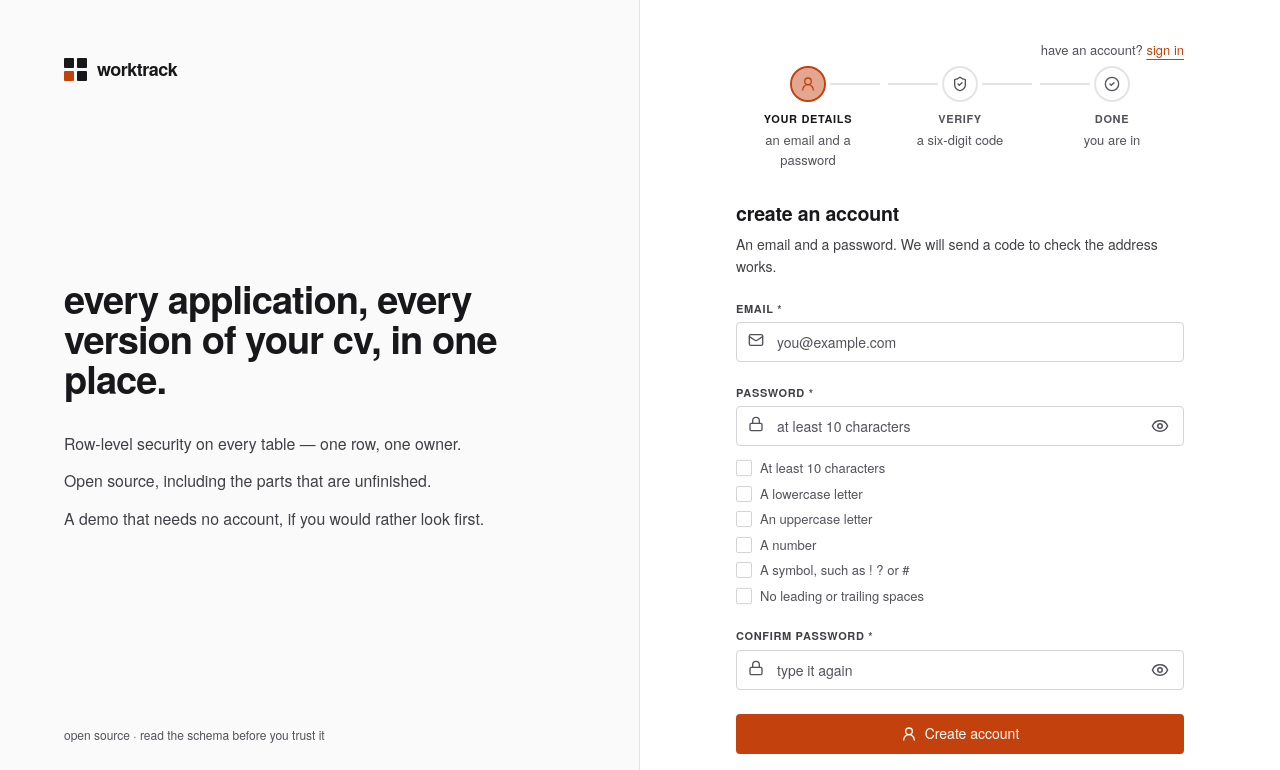
the /signup route › does not advance when the signup is refused
Type "a@b.test" into the field labelled "Email *" at (960, 342), box [736,322,1184,362]
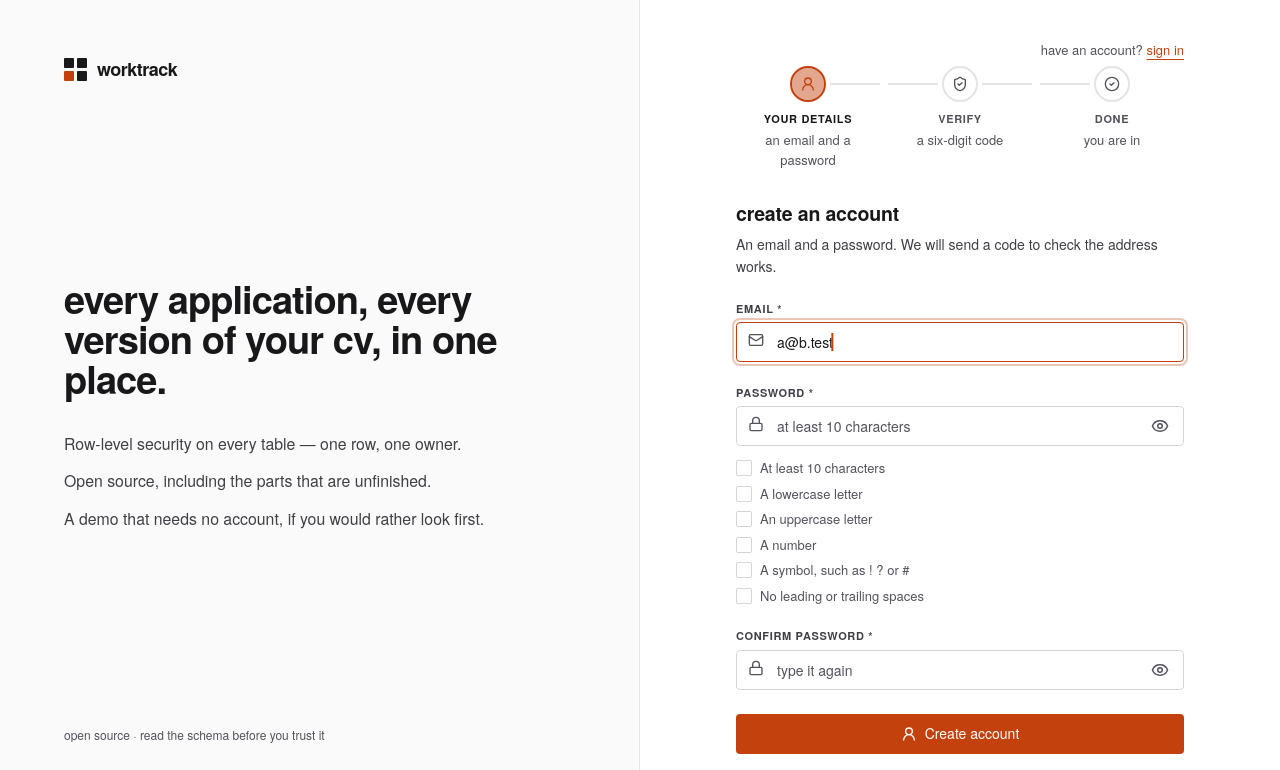
Type "Str0ng!Passw0rd" into the password field labelled "Password *" at (960, 426), box [736,406,1184,446]
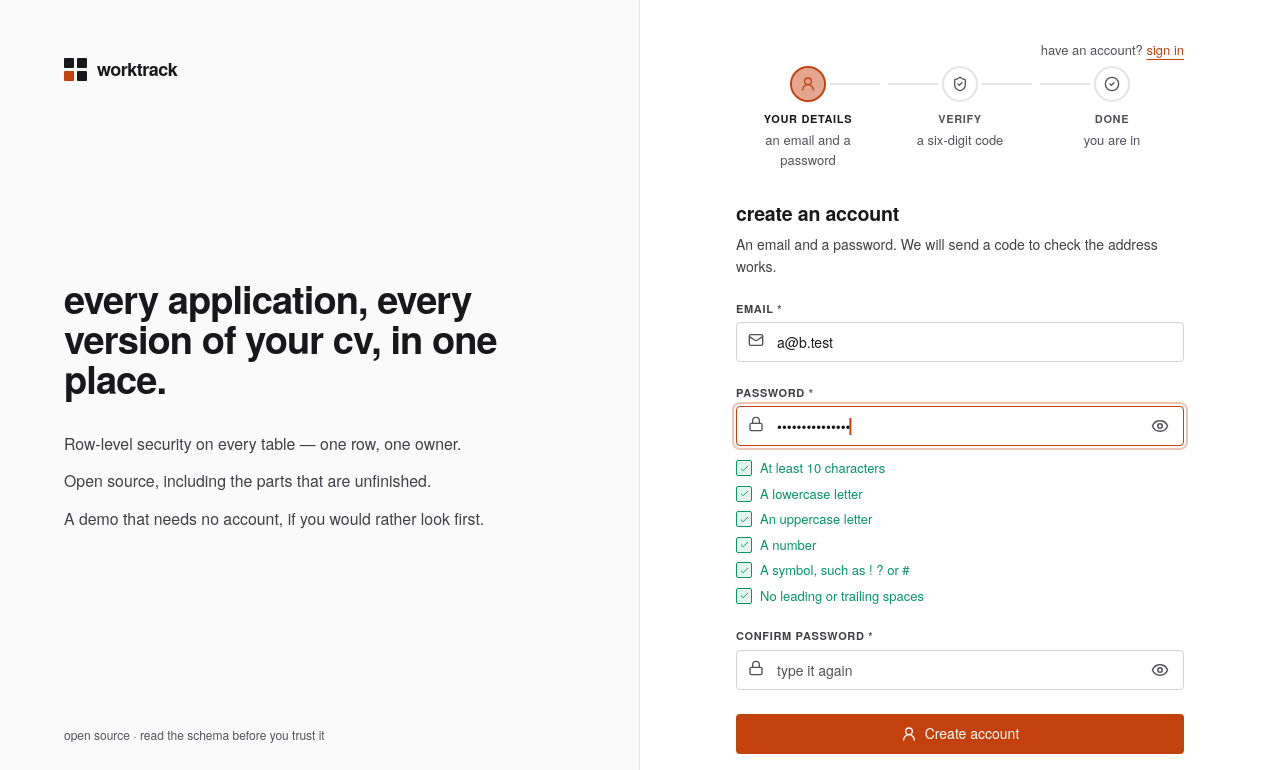
Type "Str0ng!Passw0rd" into the password field labelled "Confirm password *" at (960, 670), box [736,650,1184,690]
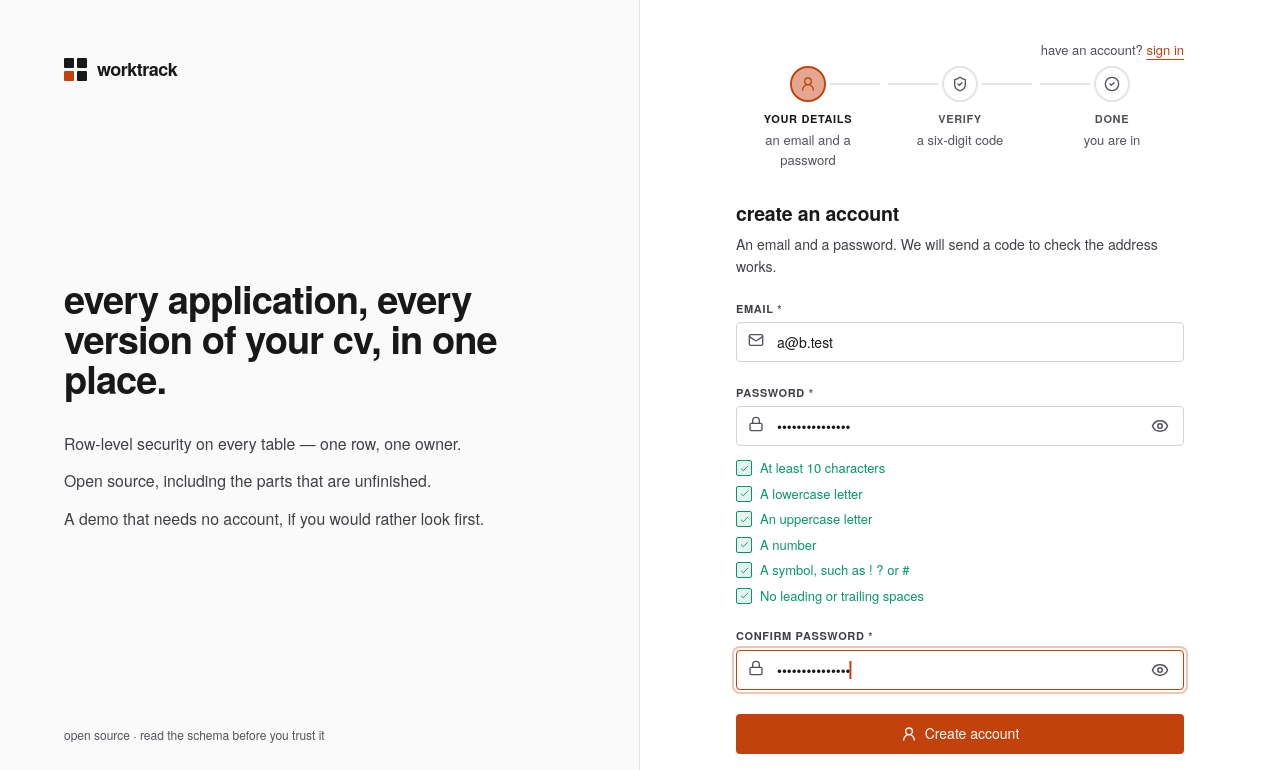
Click the button "Create account" at (960, 734), box [736,714,1184,754]
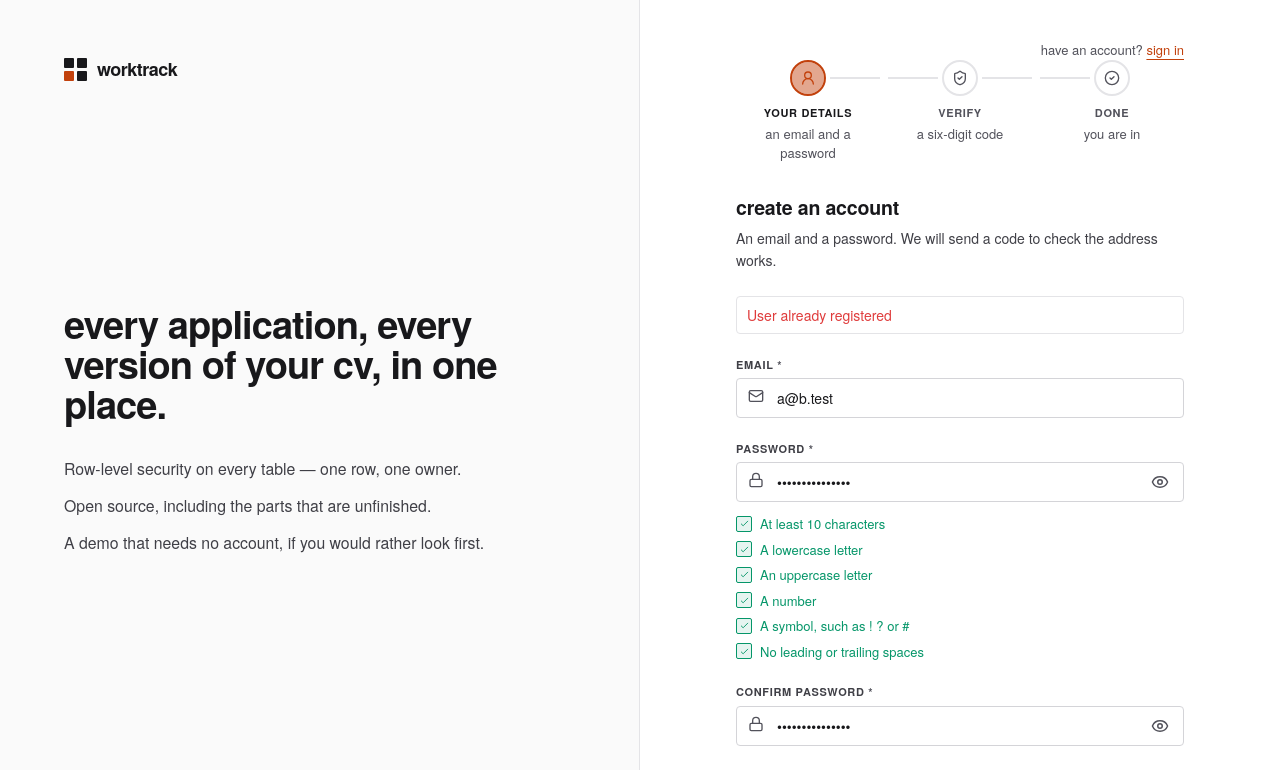
Expected: the text "User already registered" is shown, [747,305,892,325]
